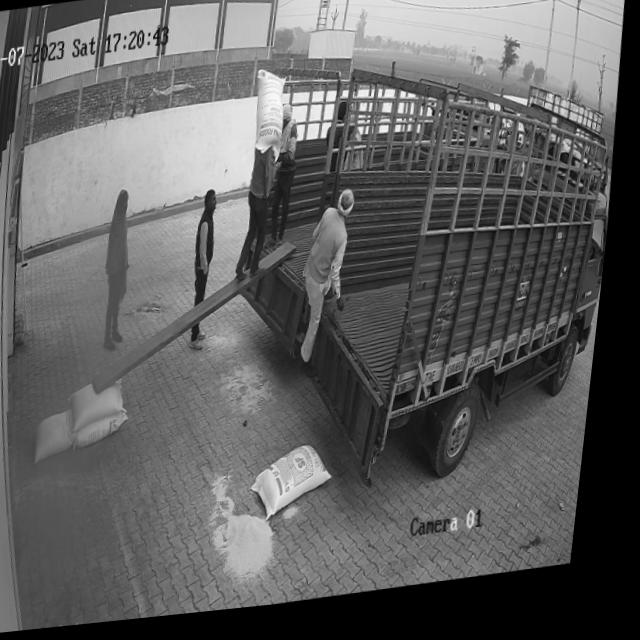sack: (258, 449, 346, 531), (252, 71, 292, 161), (74, 382, 134, 436), (41, 412, 86, 465), (84, 412, 138, 450)
